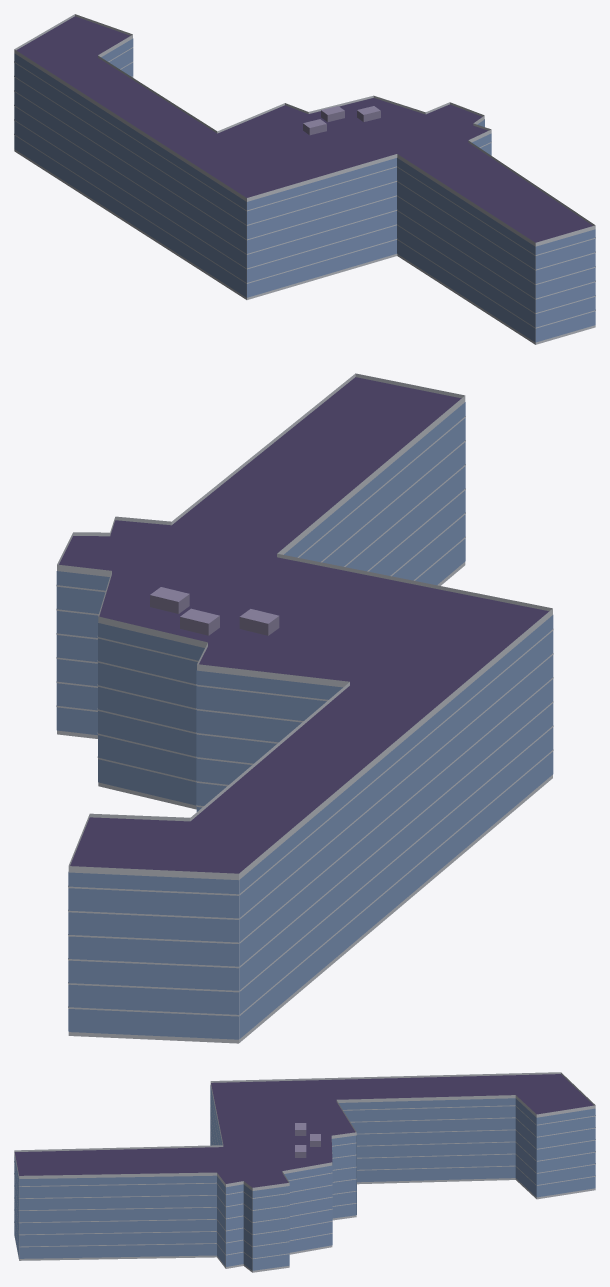
File: b-117-essex-hall-day.glb
3 renders of one model, top to bottom at view 1: azimuth 30°, elevation 25°; view 2: azimuth 150°, elevation 25°; view 3: azimuth 270°, elevation 25°, orthographic. The views are drawn at different scales.
Parts seen in each view (by area): view 1: campus/b-117-essex-hall-day-0; view 2: campus/b-117-essex-hall-day-0; view 3: campus/b-117-essex-hall-day-0.
Boxes of the visible parts, x1=… form: campus/b-117-essex-hall-day-0: x1=14, y1=14, x2=595, y2=344; campus/b-117-essex-hall-day-0: x1=56, y1=373, x2=553, y2=1043; campus/b-117-essex-hall-day-0: x1=14, y1=1072, x2=595, y2=1272.
Size of the model in its own units: 74.2 by 26.6 by 157.
